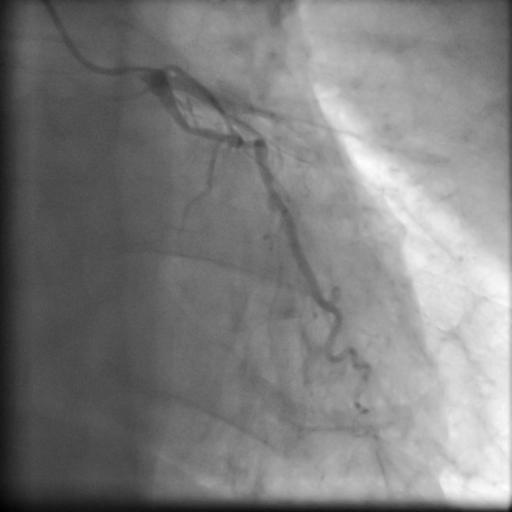Stenosis: (235, 127, 261, 159)
